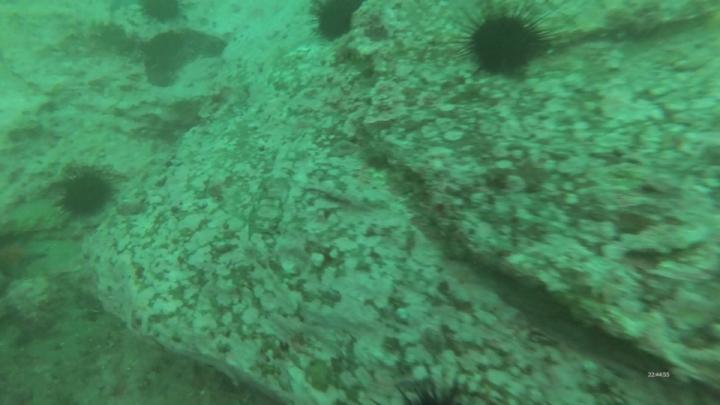echinus: (460, 1, 562, 83), (47, 164, 121, 223), (313, 1, 364, 46), (142, 1, 184, 28)
holothurian: (141, 27, 230, 94)
